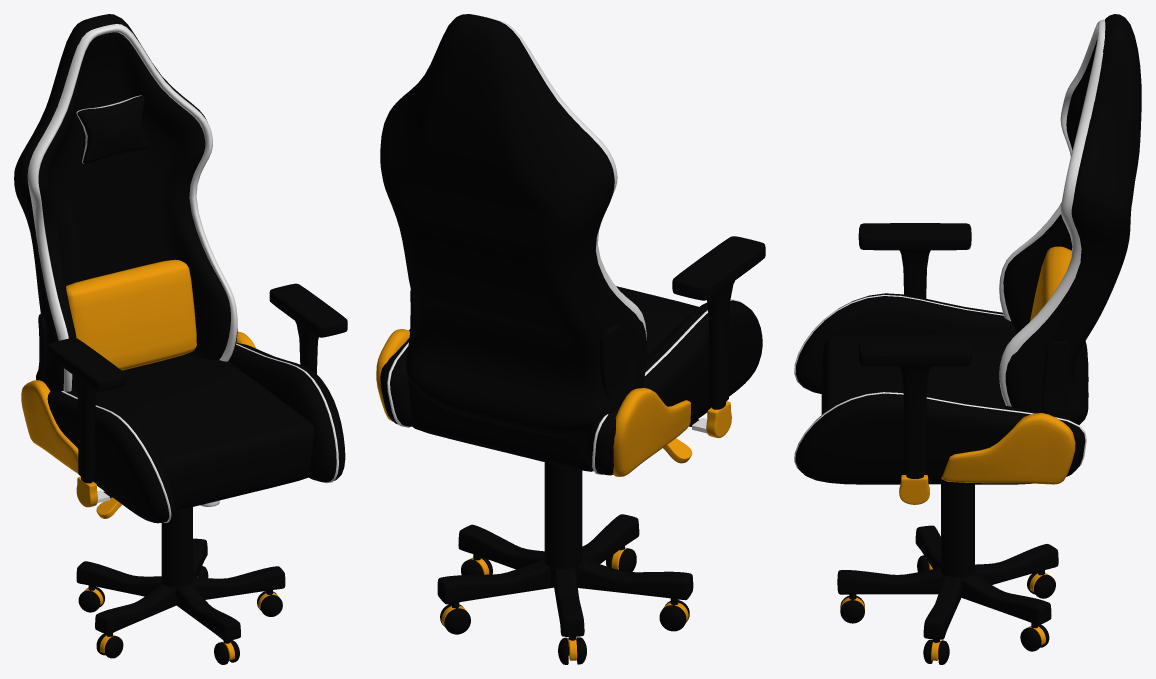
File: GamingChair.fbx
The picture shows the model from 3 angles, left to right: view 1: azimuth 30°, elevation 25°; view 2: azimuth 150°, elevation 25°; view 3: azimuth 270°, elevation 25°; orthographic projection. The views are drawn at different scales.
Parts seen in each view (by area): view 1: Chair; view 2: Chair; view 3: Chair.
Boxes of the visible parts, <box> form: Chair: <box>14,14,347,664</box>; Chair: <box>376,14,765,664</box>; Chair: <box>794,14,1141,664</box>.
Size of the model in its own units: 3.28 by 6.9 by 3.64.
